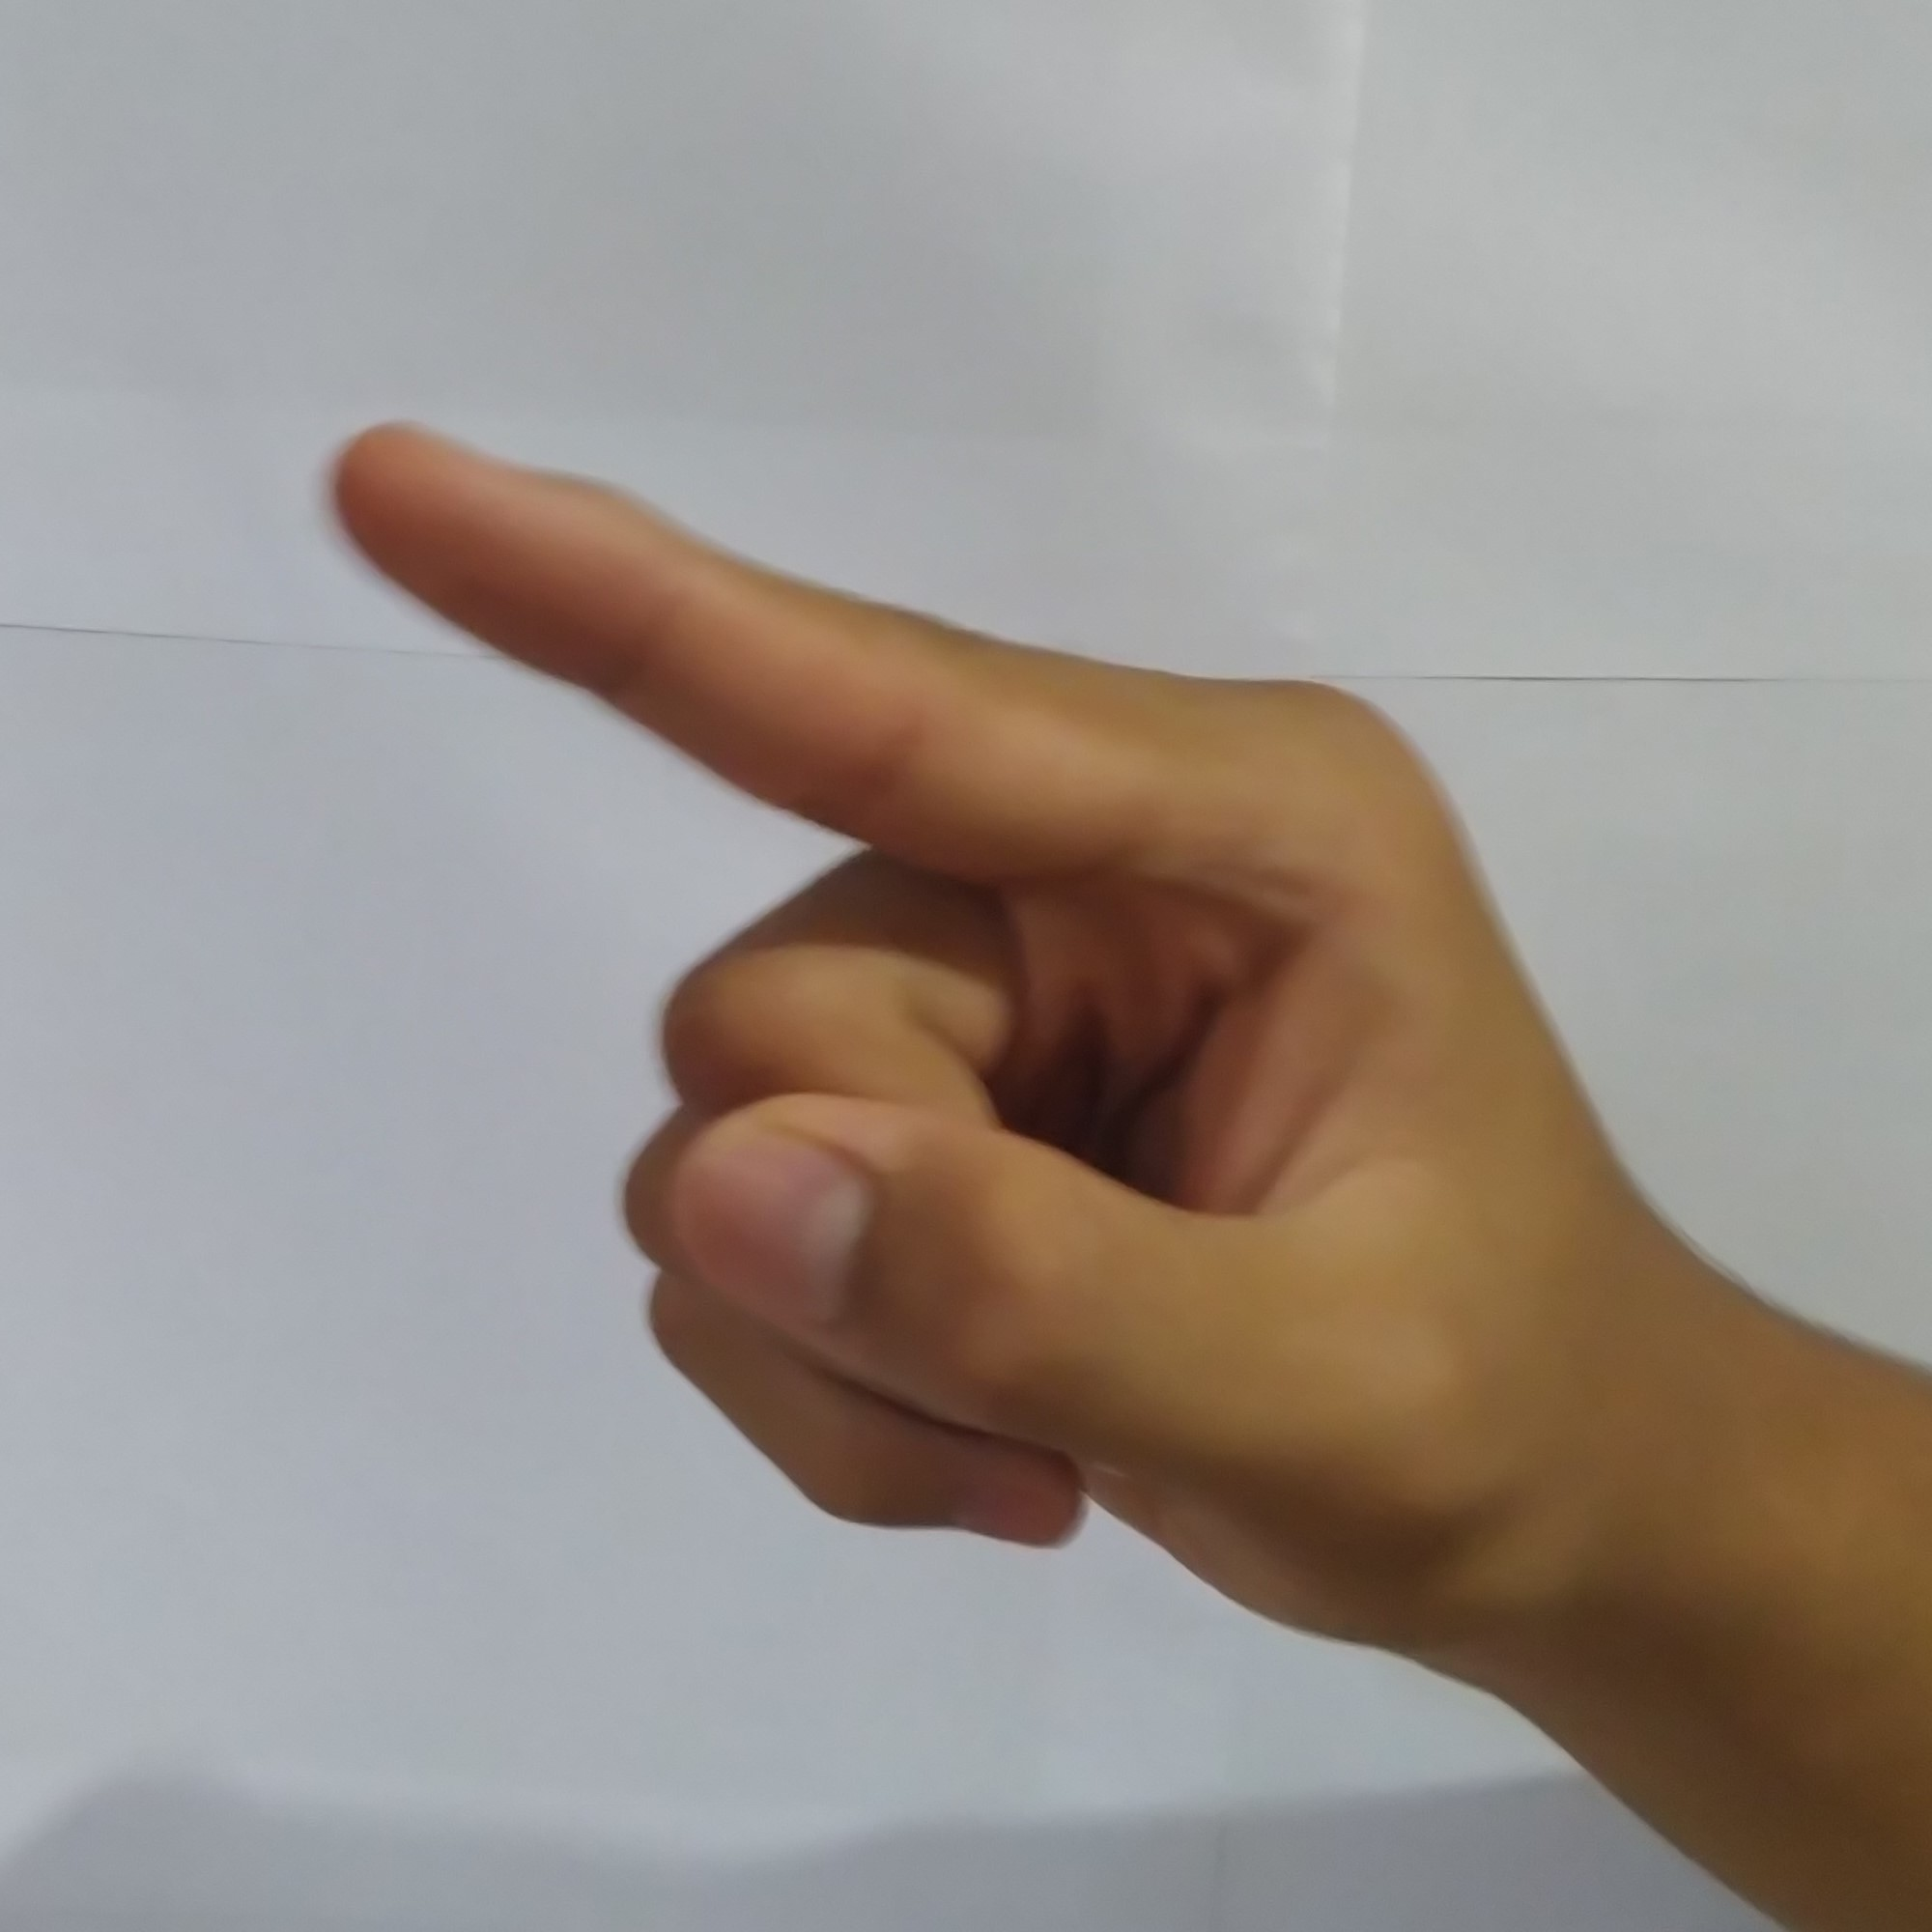Z: (283, 391, 1769, 1658)
